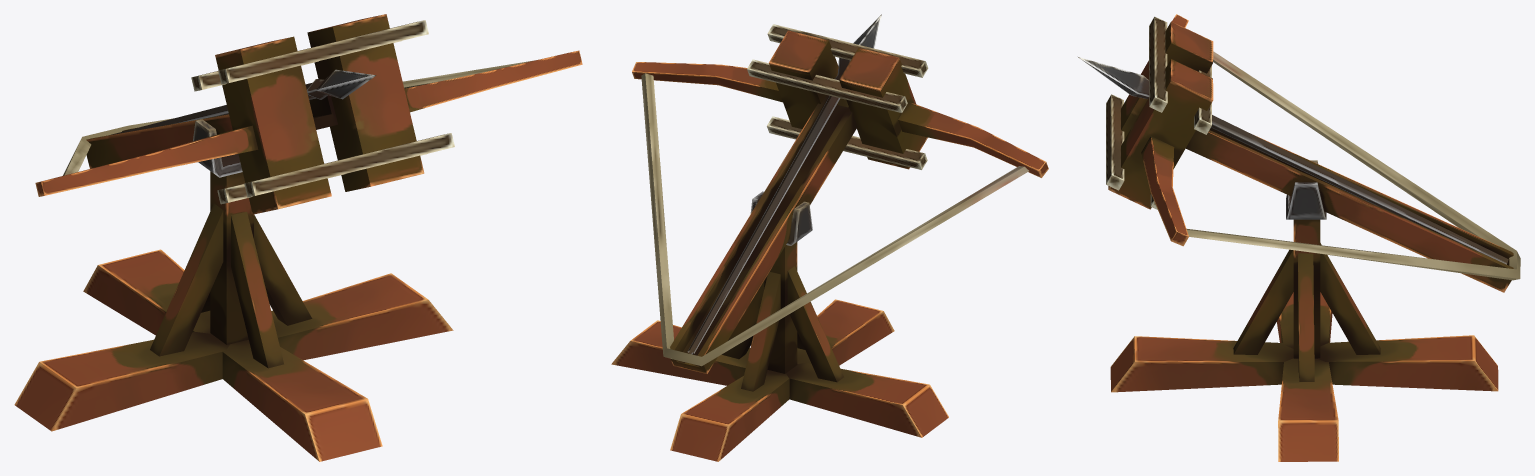
File: Rome_Village_Props_37.FBX
3 views of the same model, side by side, from view 1: azimuth 30°, elevation 25°; view 2: azimuth 150°, elevation 25°; view 3: azimuth 270°, elevation 25° (orthographic). The views are drawn at different scales.
Visible parts, largest first — view 1: Rome_Village_Props_37; view 2: Rome_Village_Props_37; view 3: Rome_Village_Props_37.
Part boxes in pixels (x1,y1,x2,y2): Rome_Village_Props_37: (14,14,582,461); Rome_Village_Props_37: (611,14,1048,461); Rome_Village_Props_37: (1078,14,1520,461).
Bounding box in the file's own units: 287 × 203 × 247.
